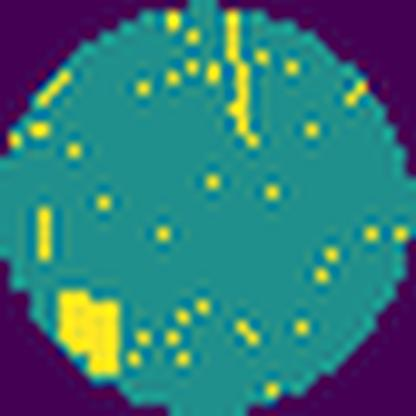Loc: (59, 284, 119, 381)
